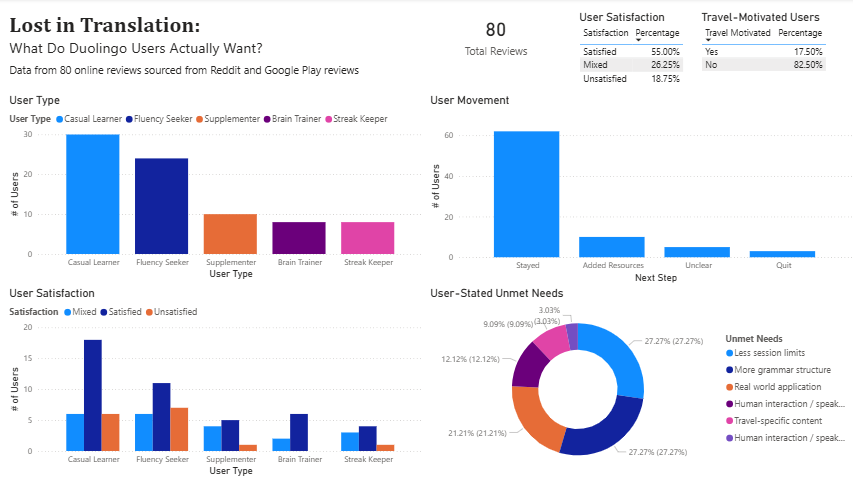

Layout of this report page (visuals, bound fields, positions):
{"tool":"powerbi","page":{"name":"Page 1","canvas":[1280,720],"ordinal":0},"visuals":[{"type":"columnChart","title":"User Type","fields":{"Category":["Duolingo_Review_Analysis(Duolingo Reviews).User Type"],"Y":["CountNonNull(Duolingo_Review_Analysis(Duolingo Reviews).User Type)"],"Series":["Duolingo_Review_Analysis(Duolingo Reviews).User Type"]},"box":[10.5,141.9,628.9,283.8],"z":0},{"type":"clusteredColumnChart","title":"User Satisfaction","fields":{"Category":["Duolingo_Review_Analysis(Duolingo Reviews).User Type"],"Y":["CountNonNull(Duolingo_Review_Analysis(Duolingo Reviews).Satisfaction)"],"Series":["Duolingo_Review_Analysis(Duolingo Reviews).Satisfaction"]},"box":[10.5,430.2,628.9,289.8],"z":1000},{"type":"clusteredBarChart","title":"User Travel-Motivation","fields":{"Category":["Duolingo_Review_Analysis(Duolingo Reviews).User Type"],"Y":["CountNonNull(Duolingo_Review_Analysis(Duolingo Reviews).Travel Motivated)"],"Series":["Duolingo_Review_Analysis(Duolingo Reviews).Travel Motivated"]},"box":[640,431.4,640,288.6],"z":2000},{"type":"columnChart","title":"User Movement","fields":{"Category":["Duolingo_Review_Analysis(Duolingo Reviews).std_Next Step"],"Y":["CountNonNull(Duolingo_Review_Analysis(Duolingo Reviews).std_Next Step)"]},"box":[640,141.7,640,288.3],"z":3000},{"type":"card","fields":{"Values":["CountNonNull(Duolingo_Review_Analysis(Duolingo Reviews).Review Summary)"]},"box":[639.3,1.5,206.1,106.1],"z":4000},{"type":"tableEx","title":"User Satisfaction","fields":{"Values":["Duolingo_Review_Analysis(Duolingo Reviews).Satisfaction1","Duolingo_Review_Analysis(Duolingo Reviews).Satisfaction"]},"box":[863.4,1.5,167.3,125.5],"z":5000},{"type":"tableEx","title":"Travel-Motivated Users","fields":{"Values":["Duolingo_Review_Analysis(Duolingo Reviews).Travel Motivated1","Duolingo_Review_Analysis(Duolingo Reviews).Travel Motivated"]},"box":[1045.6,1.5,198.7,125.5],"z":6000},{"type":"actionButton","box":[0,0,100,40],"z":7000},{"type":"donutChart","title":"User-Stated Unmet Needs","fields":{"Y":["CountNonNull(Duolingo_Review_Analysis(Duolingo Reviews).User Type)"],"Category":["Duolingo_Review_Analysis(Duolingo Reviews).Unmet Need"]},"box":[639.3,430.2,640.8,289.8],"z":9000},{"type":"textbox","box":[10.5,16,563.2,74.7],"z":9001},{"type":"textbox","box":[10,91.4,544.3,44.3],"z":9003}]}

Visuals, with their boxes in screenshot pixels (x1, y1, x2, y2), scaled from the page's 1280x720 canvas onto the 853x478 screenshot:
"User Type" columnChart: l=7, t=94, r=426, b=283
"User Satisfaction" clusteredColumnChart: l=7, t=286, r=426, b=477
"User Travel-Motivation" clusteredBarChart: l=426, t=286, r=852, b=477
"User Movement" columnChart: l=426, t=94, r=852, b=285
card - CountNonNull(Duolingo_Review_Analysis(Duolingo Reviews).Review Summary): l=426, t=1, r=563, b=71
"User Satisfaction" tableEx: l=575, t=1, r=687, b=84
"Travel-Motivated Users" tableEx: l=697, t=1, r=829, b=84
actionButton: l=0, t=0, r=67, b=27
"User-Stated Unmet Needs" donutChart: l=426, t=286, r=852, b=477
textbox: l=7, t=11, r=382, b=60
textbox: l=7, t=61, r=369, b=90
